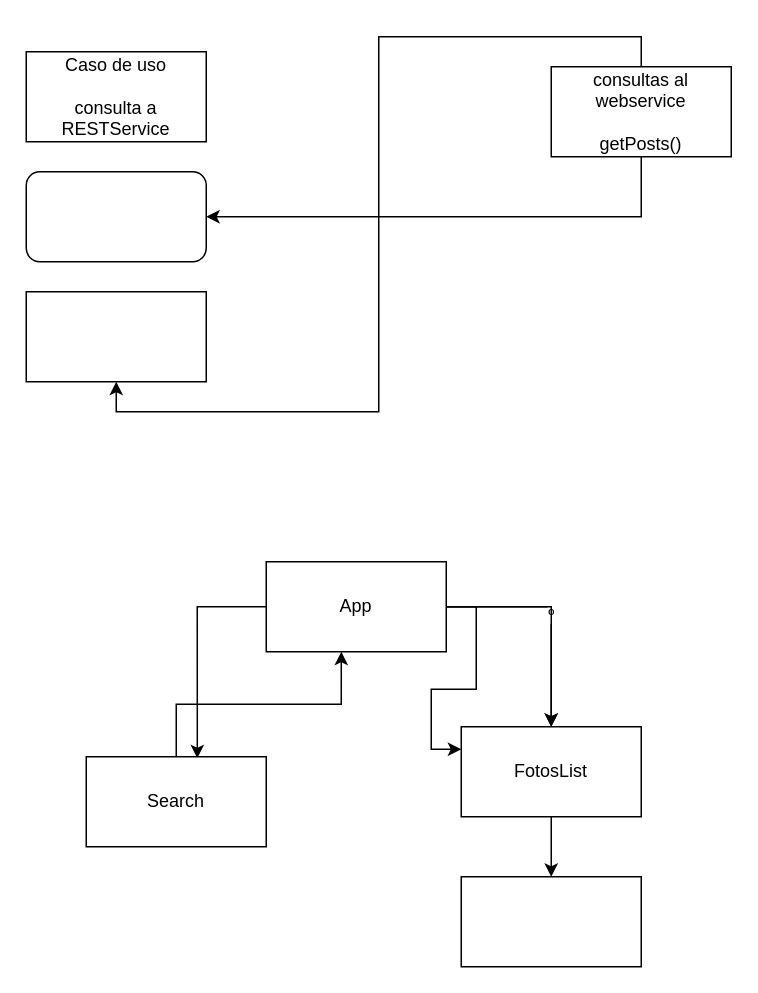
Image size: 758x993. Some labels were removed from this diagram. Each missing label, with the centre of its shape:
"Fotos" goes at (x=550, y=921).
"Interface consultas getPosts()" goes at (x=115, y=216).
"Respuesta (interfaz)" goes at (x=115, y=336).
